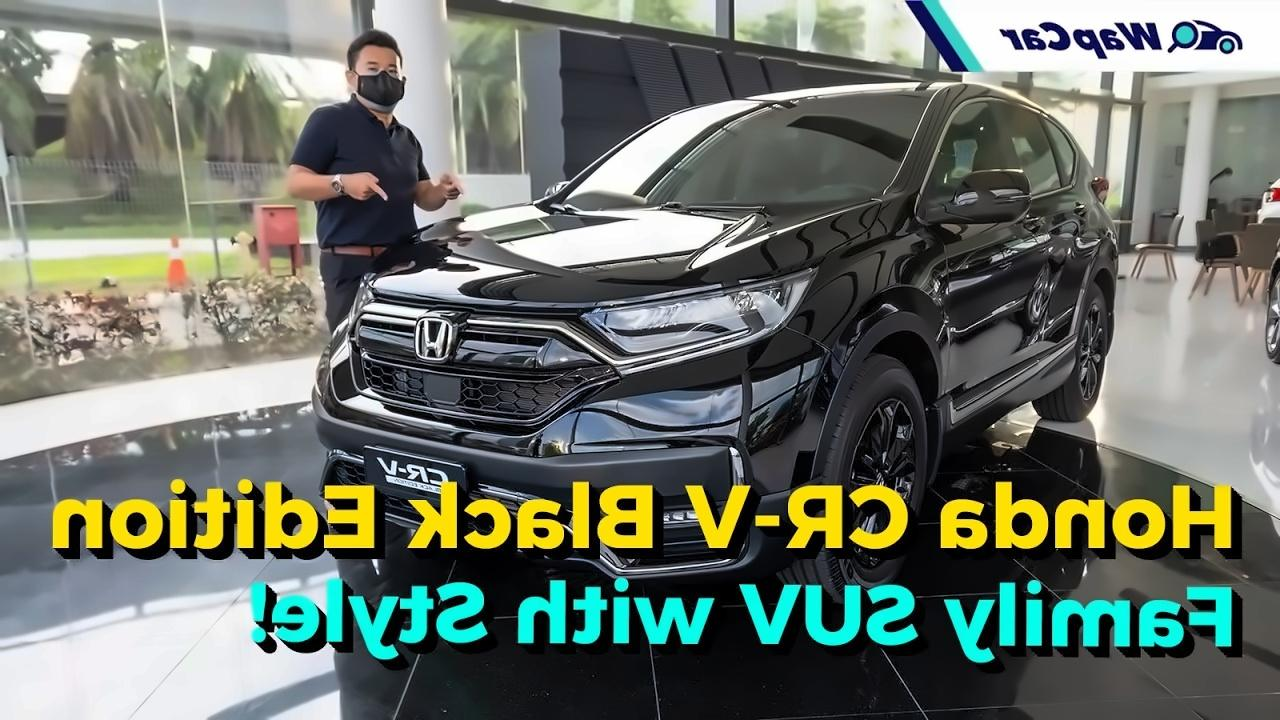Car hood: (356, 198, 879, 304)
Fender - -F-L-: (777, 190, 955, 417)
Front bumper: (285, 272, 846, 574)
Headlight - -L-: (577, 260, 820, 378)
Passenger-s door - -F-L-: (912, 70, 1048, 440)
Passenger-s door - -R-L-: (1006, 79, 1103, 409)
Side bumper - -L-: (933, 318, 1081, 470)
Side mirror - -L-: (910, 166, 1036, 238)
